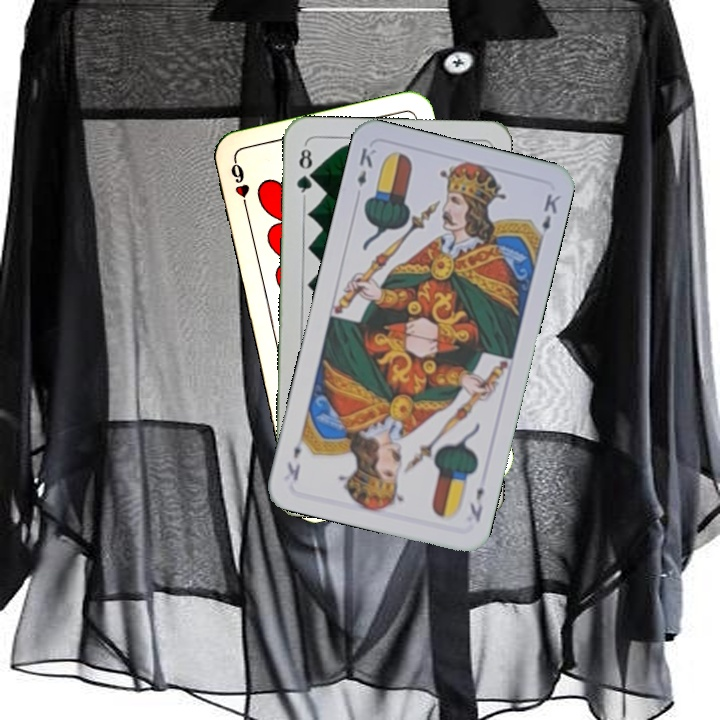EK: (353, 143, 379, 189), (465, 483, 487, 525)
G8: (292, 141, 316, 200)
H9: (226, 156, 252, 214)
